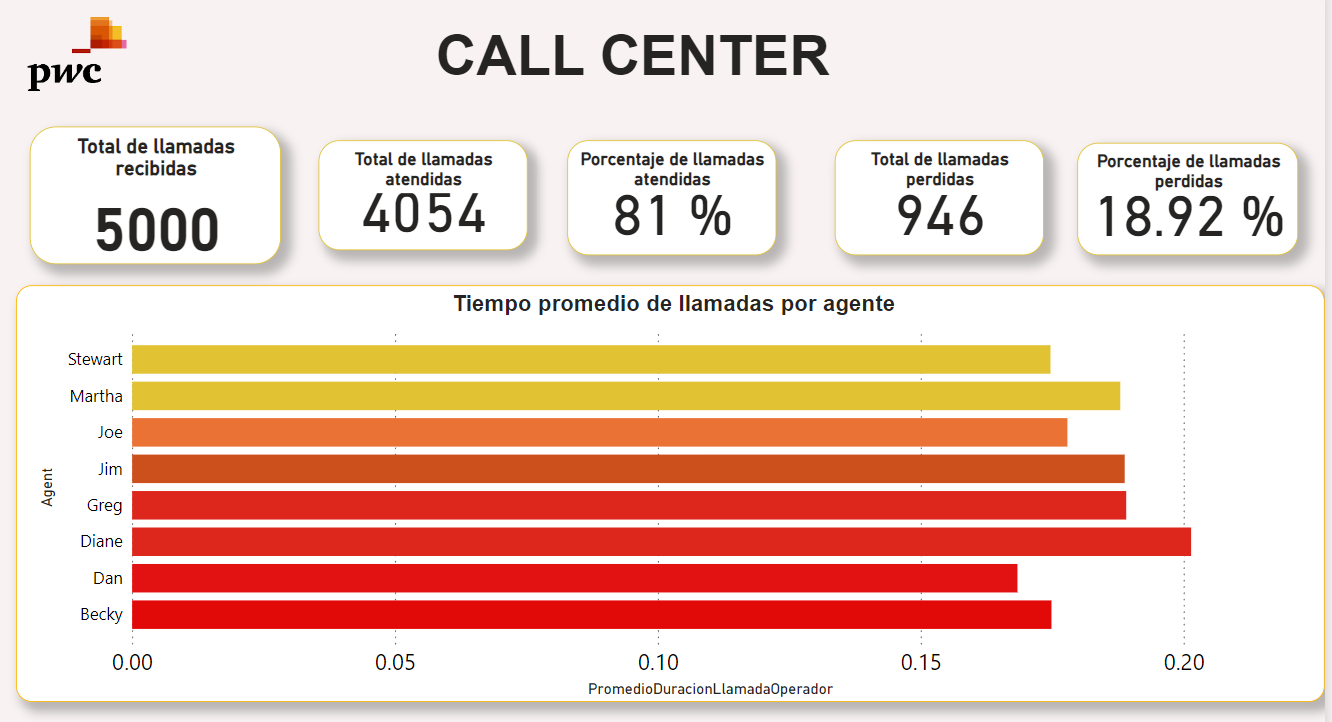

The dashboard page shown, as its layout file describes it:
{"tool":"powerbi","page":{"name":"CALL CENTER TREND","canvas":[1280,720],"ordinal":0},"visuals":[{"type":"textbox","title":"CALL CENTER ","box":[420.2,28.6,401.2,57.1],"z":0},{"type":"image","box":[16.7,11.9,149.5,90.5],"z":1000,"group":"g1"},{"type":"group","id":"g1","title":"Group 1","box":[16.7,11.9,150,90.5],"z":3000},{"type":"barChart","title":"Tiempo promedio de llamadas por agente","fields":{"Category":["Call center trend.Agent"],"Y":["CALL CENTER KPI.PromedioDuracionLlamadaOperador"]},"box":[33.3,277.4,1246.4,396.4],"z":4000},{"type":"card","title":"Total de llamadas recibidas","fields":{"Values":["CALL CENTER KPI.Total de llamadas recibidas"]},"box":[46.4,126.2,239.3,131],"z":6000},{"type":"card","title":"Total de llamadas atendidas","fields":{"Values":["CALL CENTER KPI.Total de llamadas atendidas"]},"box":[321.4,139.3,198.8,104.8],"z":7000},{"type":"card","title":"Total de llamadas perdidas","fields":{"Values":["CALL CENTER KPI.Total calls abandoned"]},"box":[813.1,139.3,198.8,109.5],"z":8000},{"type":"card","title":"Porcentaje de llamadas atendidas","fields":{"Values":["CALL CENTER KPI.Porcentaje de llamadas atendidas"]},"box":[558.3,139.3,198.8,109.5],"z":9000},{"type":"card","title":"Porcentaje de llamadas perdidas","fields":{"Values":["CALL CENTER KPI.Porcentaje de llamadas perdidas"]},"box":[1044.1,141.7,210.7,107.1],"z":10000}]}

Visuals, with their boxes on the page's 1280x720 design canvas (x1, y1, x2, y2). These are canvas units, not pixel positions in the 1332x722 screenshot, which may show the page scaled, cropped or inside an application window:
"CALL CENTER " textbox: crop(420, 29, 821, 86)
image: crop(17, 12, 166, 102)
"Group 1" group: crop(17, 12, 167, 102)
"Tiempo promedio de llamadas por agente" barChart: crop(33, 277, 1280, 674)
"Total de llamadas recibidas" card: crop(46, 126, 286, 257)
"Total de llamadas atendidas" card: crop(321, 139, 520, 244)
"Total de llamadas perdidas" card: crop(813, 139, 1012, 249)
"Porcentaje de llamadas atendidas" card: crop(558, 139, 757, 249)
"Porcentaje de llamadas perdidas" card: crop(1044, 142, 1255, 249)
